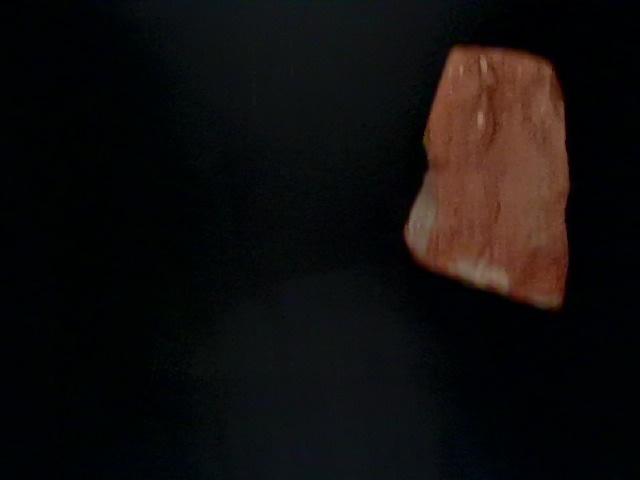KHSLJ: (57, 1, 377, 213)
